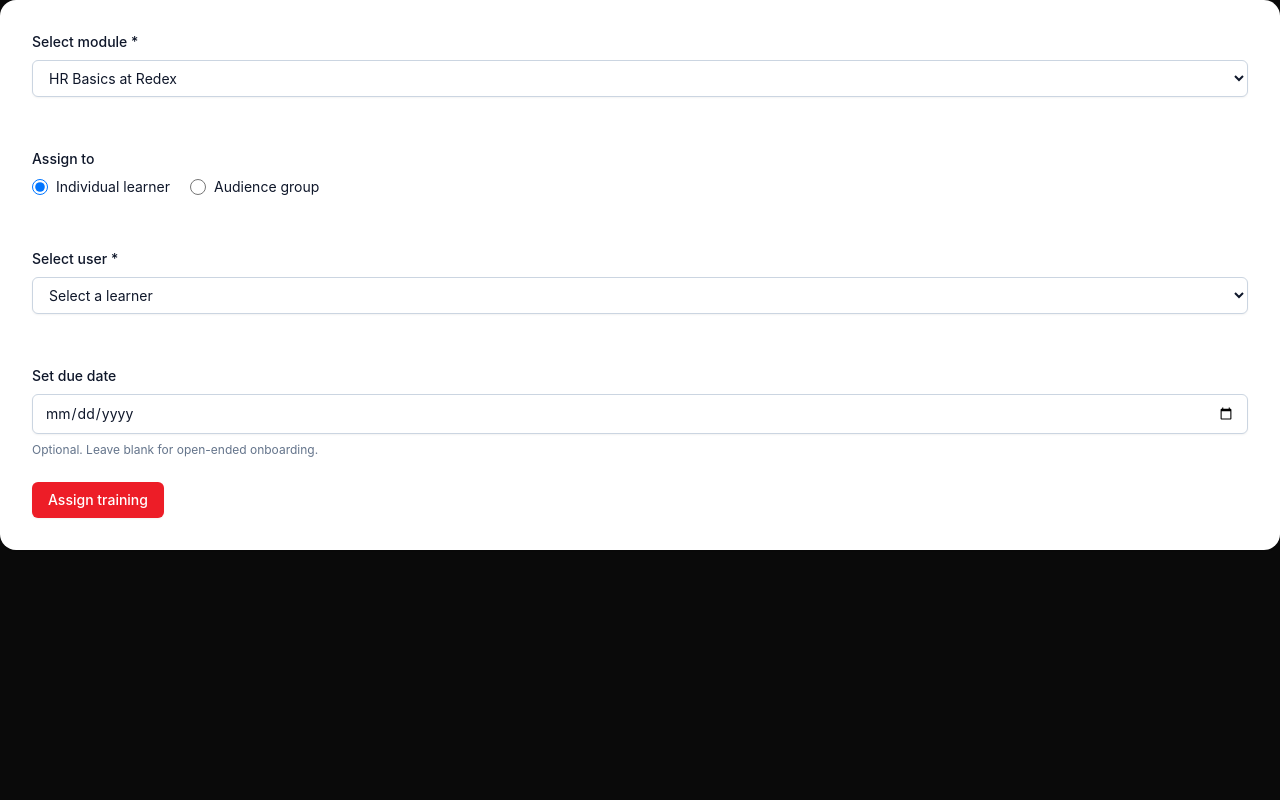
AssignmentForm › validates cohort-mode submission requires cohortId
This screenshot has width=1280, height=800.
What coordinates should you click on to do the following:
click the radio button labelled "Audience group"
I would click on:
 (198, 187)
Its box is 190,179 -> 206,195.
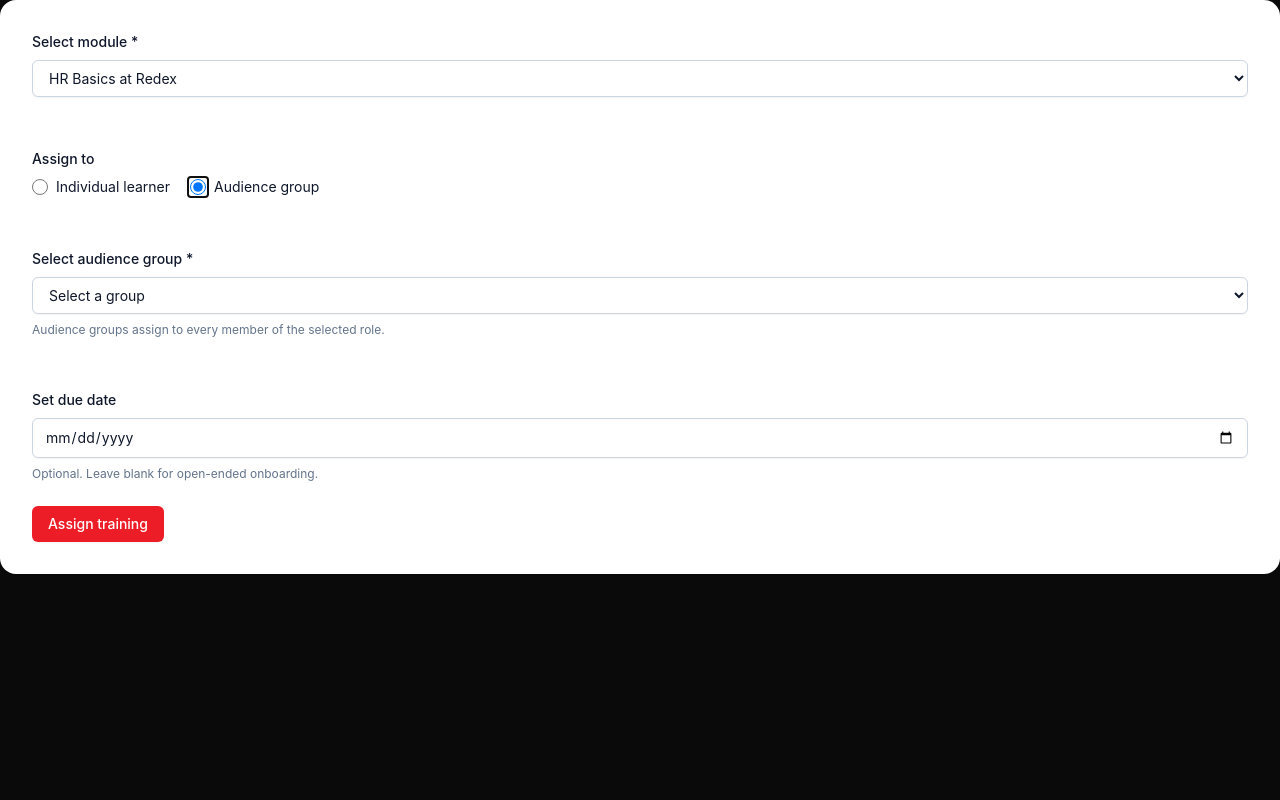
What coordinates should you click on to do the following:
click the button "Assign training"
I would click on:
 (98, 524)
Its box is 32,506 -> 164,542.
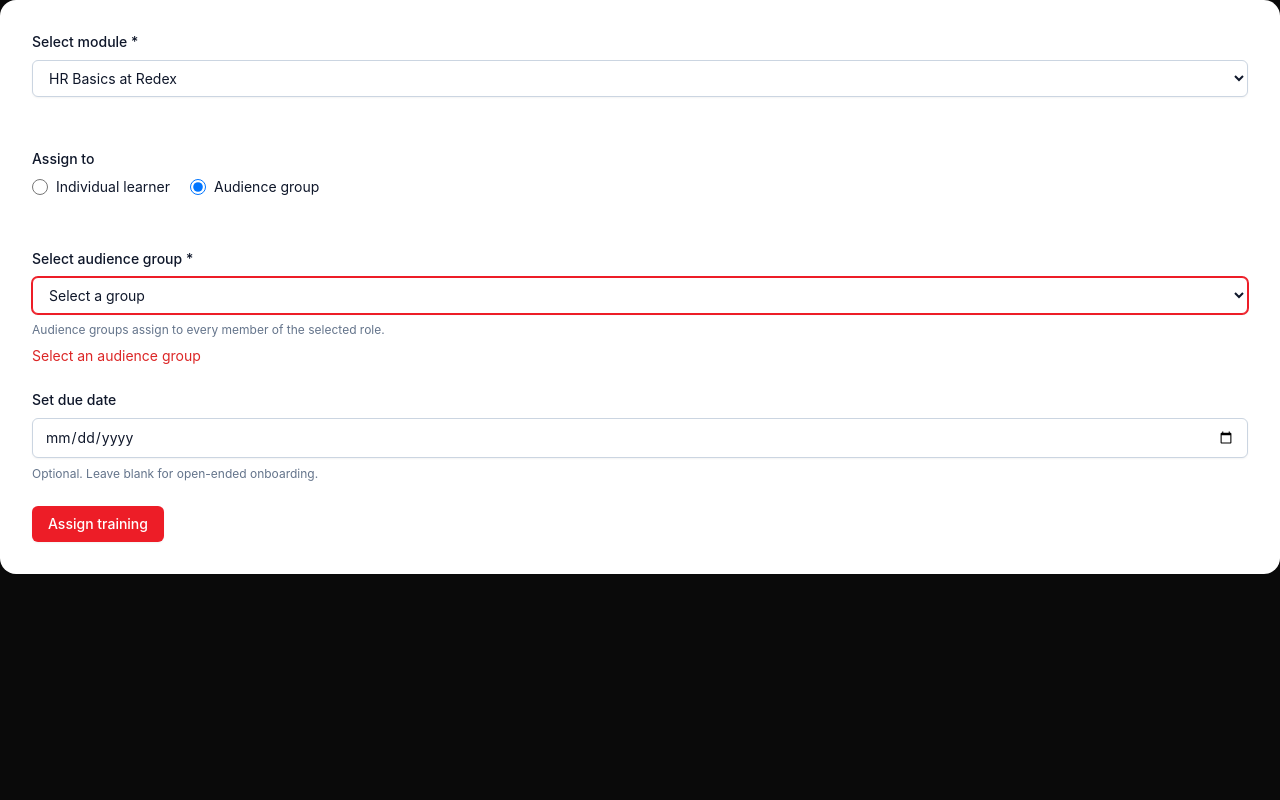
Now the text "Select an audience group" is shown, box 32,347 -> 201,364
